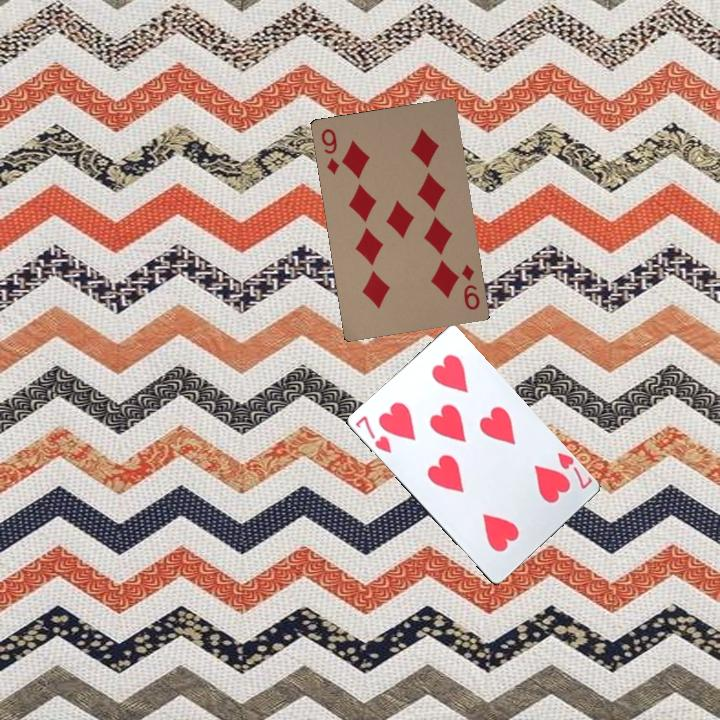7h: (351, 411, 394, 456), (553, 448, 594, 492)
9d: (317, 124, 342, 177), (457, 260, 482, 312)
